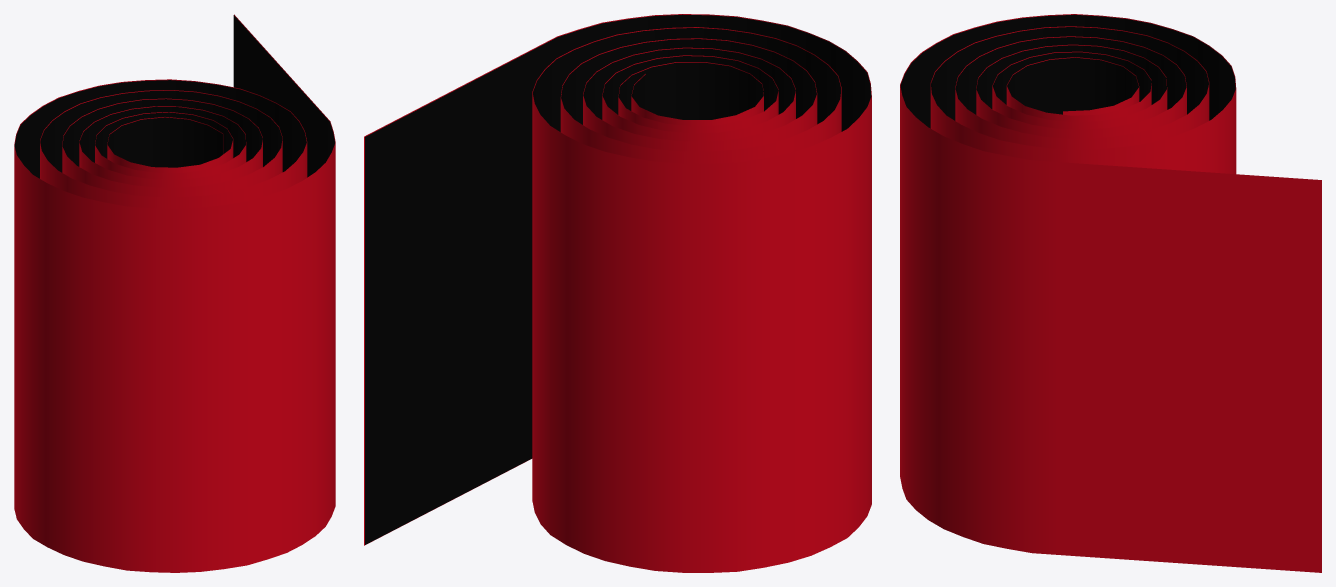
The model's file is Amplas.fbx.
3 views of the same model, side by side, from view 1: azimuth 30°, elevation 25°; view 2: azimuth 150°, elevation 25°; view 3: azimuth 270°, elevation 25° (orthographic). The views are drawn at different scales.
Visible parts, largest first — view 1: Plane.001, Plane.002; view 2: Plane.001, Plane.002; view 3: Plane.001, Plane.002.
Boxes of the visible parts, x1,y1,x2,y2 form: Plane.001: (14, 14, 335, 572); Plane.002: (14, 15, 334, 178); Plane.001: (364, 14, 871, 572); Plane.002: (365, 14, 871, 544); Plane.001: (900, 14, 1321, 572); Plane.002: (900, 14, 1235, 128).
Bounding box in the file's own units: 9.07 × 10.01 × 9.73.
